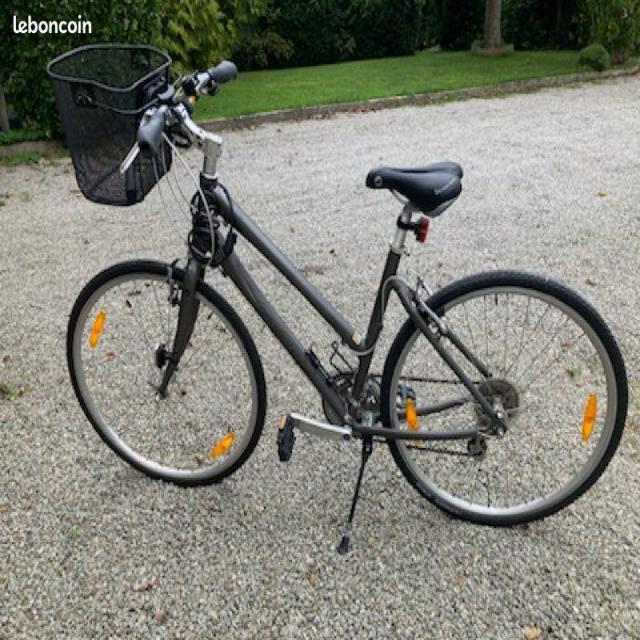Bike: (47, 44, 627, 552)
